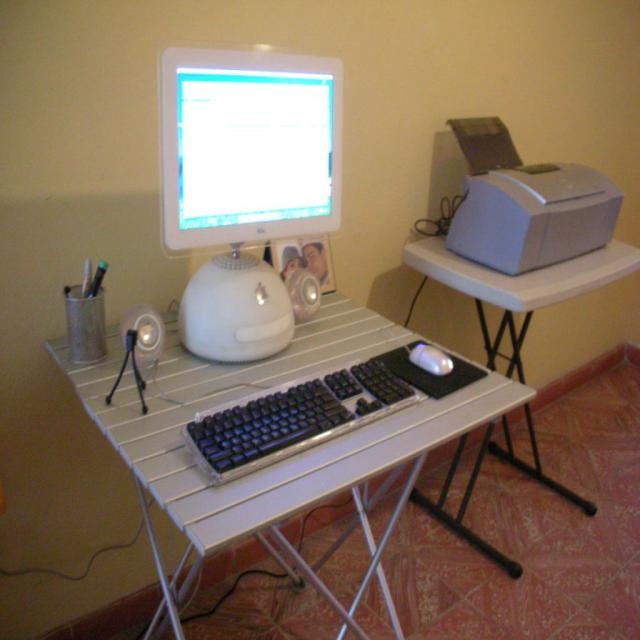desk: (46, 268, 538, 640)
keyboard: (185, 353, 423, 487)
mouse: (408, 342, 454, 376)
tv: (158, 45, 344, 257)
